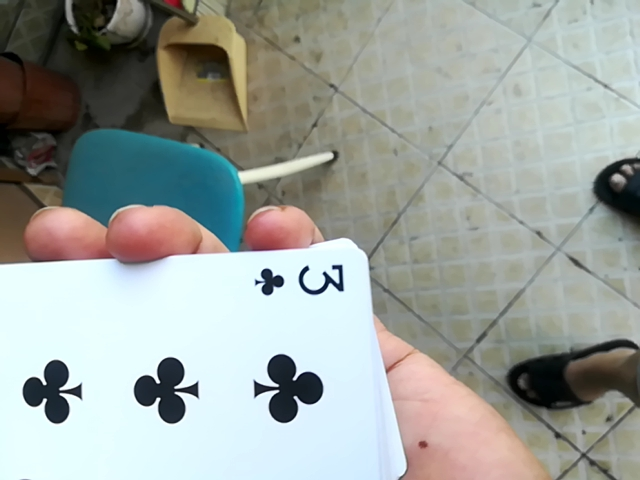mh 3: (0, 238, 411, 480)
